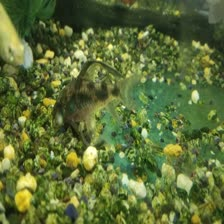Kiros: (45, 52, 144, 141)
